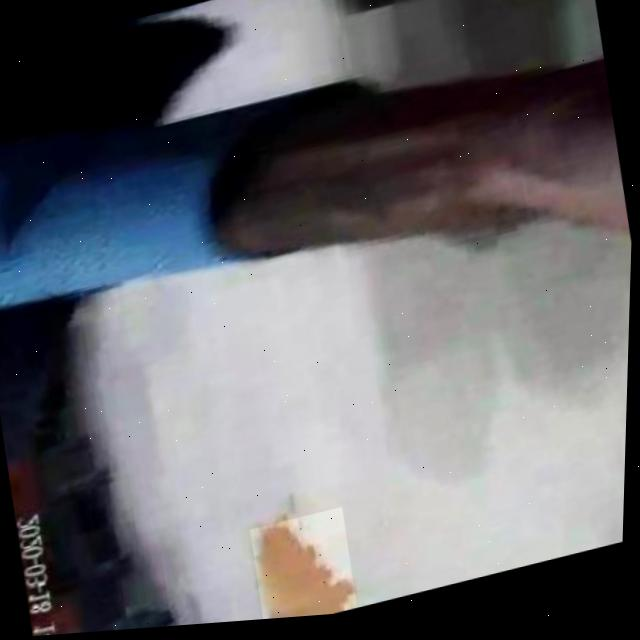spillage: (261, 527, 358, 623)
